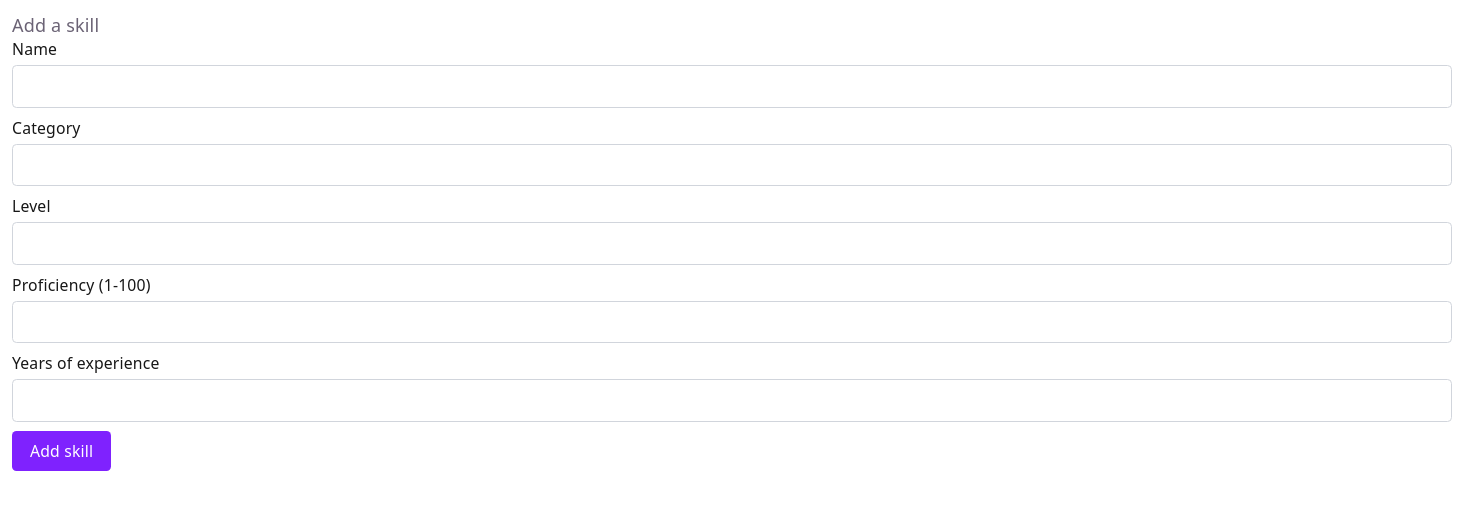
AddSkillForm › shows an error message when the mutation fails
Type "TypeScript" into the field labelled "Name".
click(732, 86); type("TypeScript")  # box [12,65,1452,108]
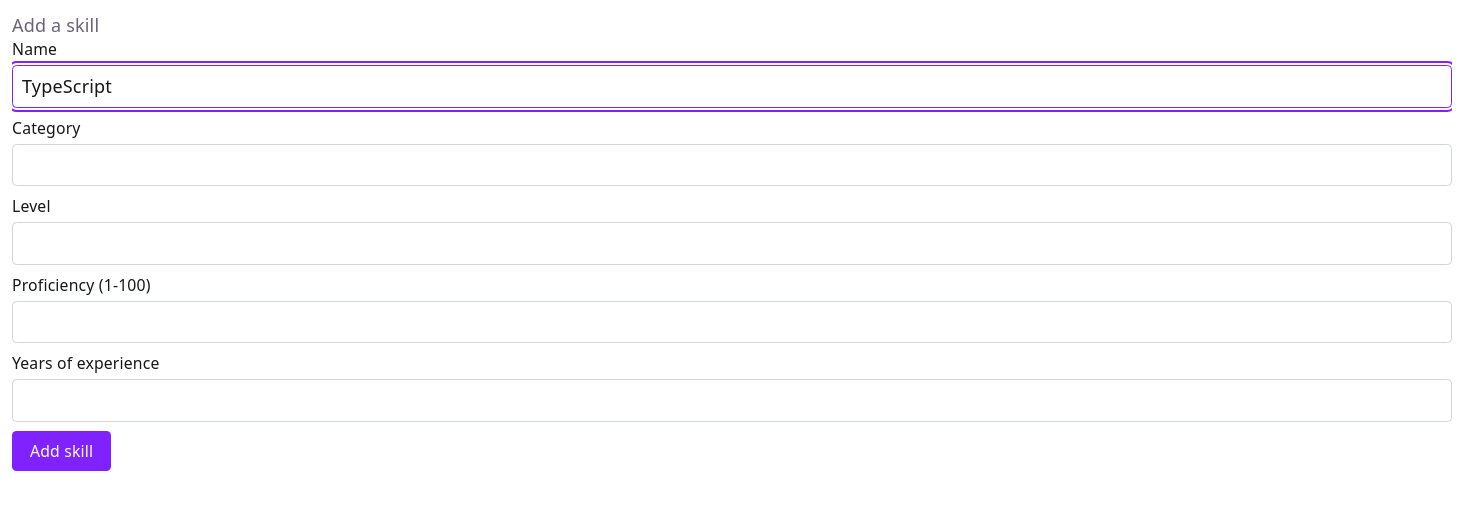
Type "Languages" into the field labelled "Category".
click(732, 165); type("Languages")  # box [12,144,1452,186]
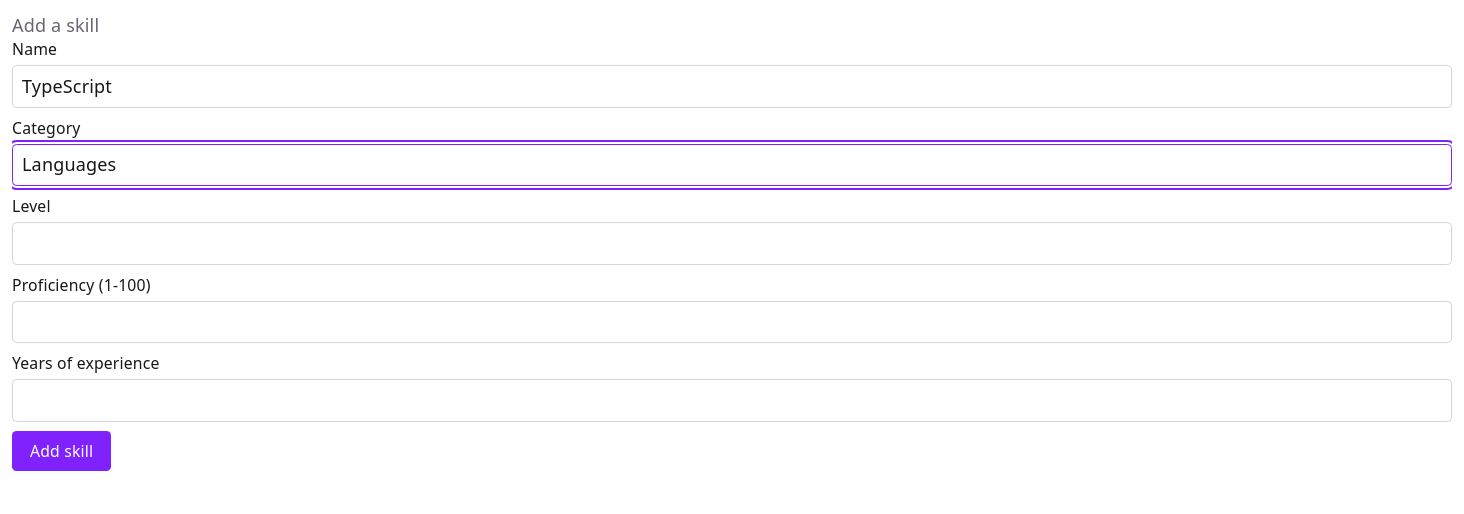
Type "Expert" into the field labelled "Level".
click(732, 243); type("Expert")  # box [12,222,1452,265]
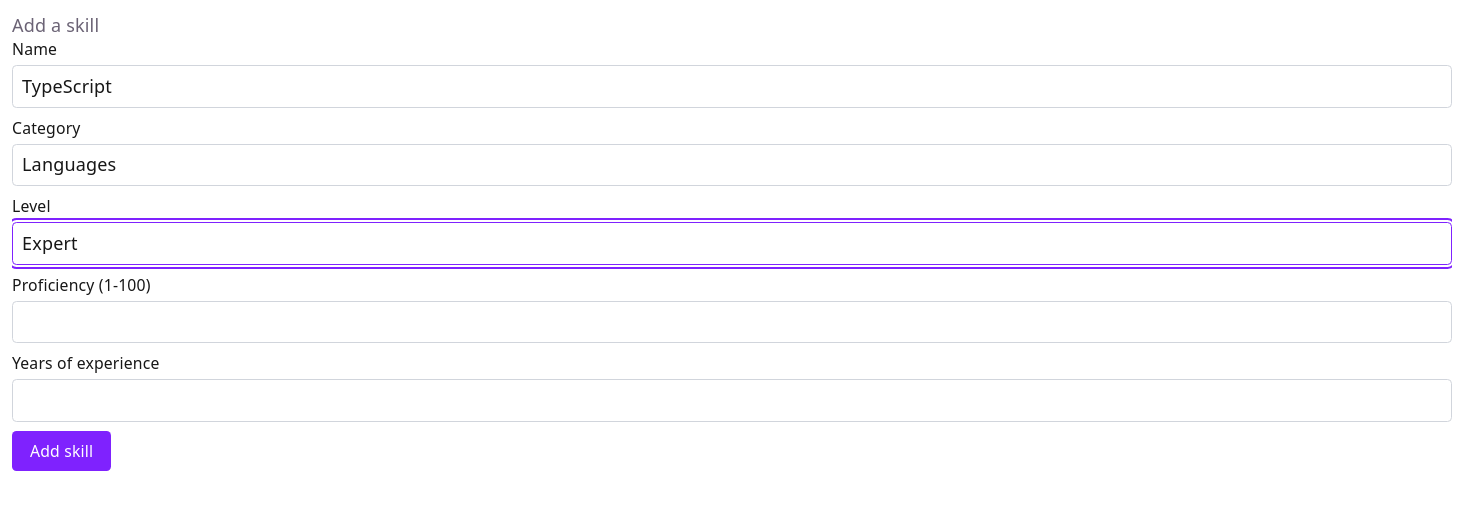
Type "90" into the number field labelled "Proficiency (1-100)".
click(732, 322); type("90")  # box [12,301,1452,343]
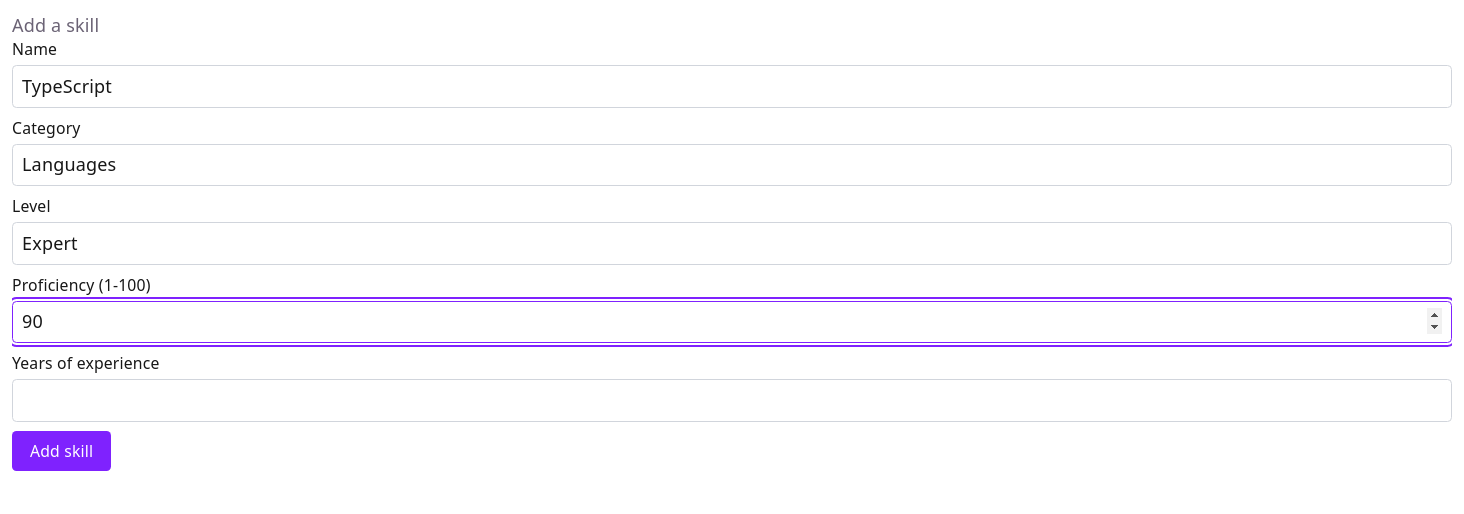
Type "5" into the number field labelled "Years of experience".
click(732, 400); type("5")  # box [12,379,1452,422]
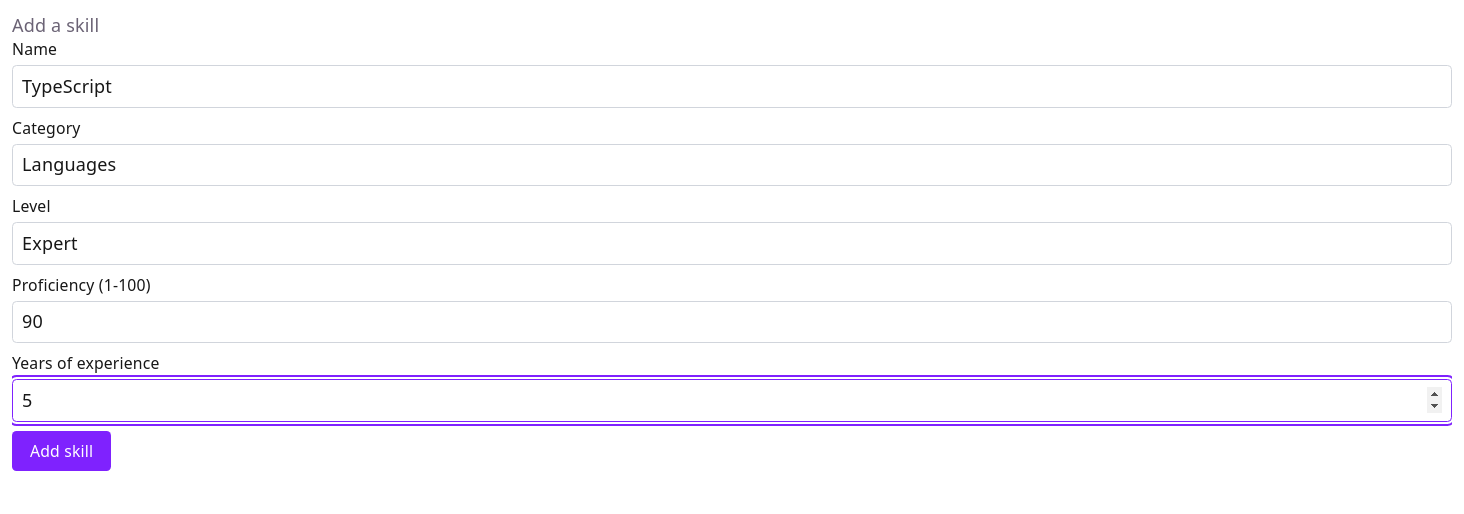
Click the button "Add skill".
click(62, 451)  # box [12,431,111,471]
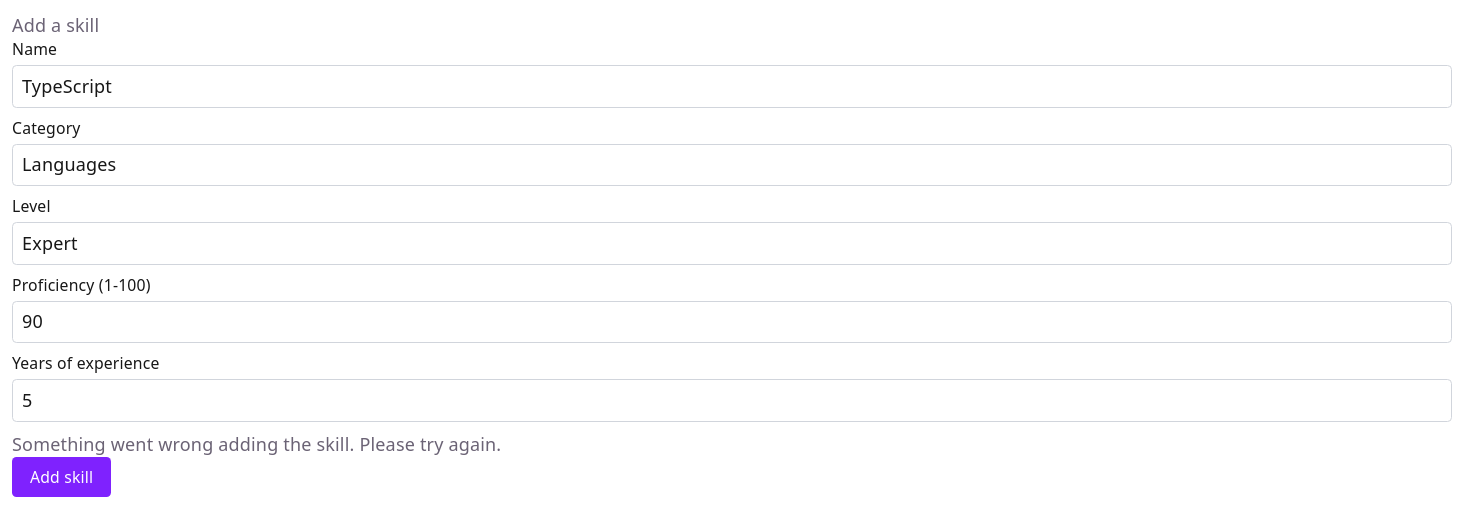
expect the message shows "Something went wrong": met, box [12,432,501,456]
